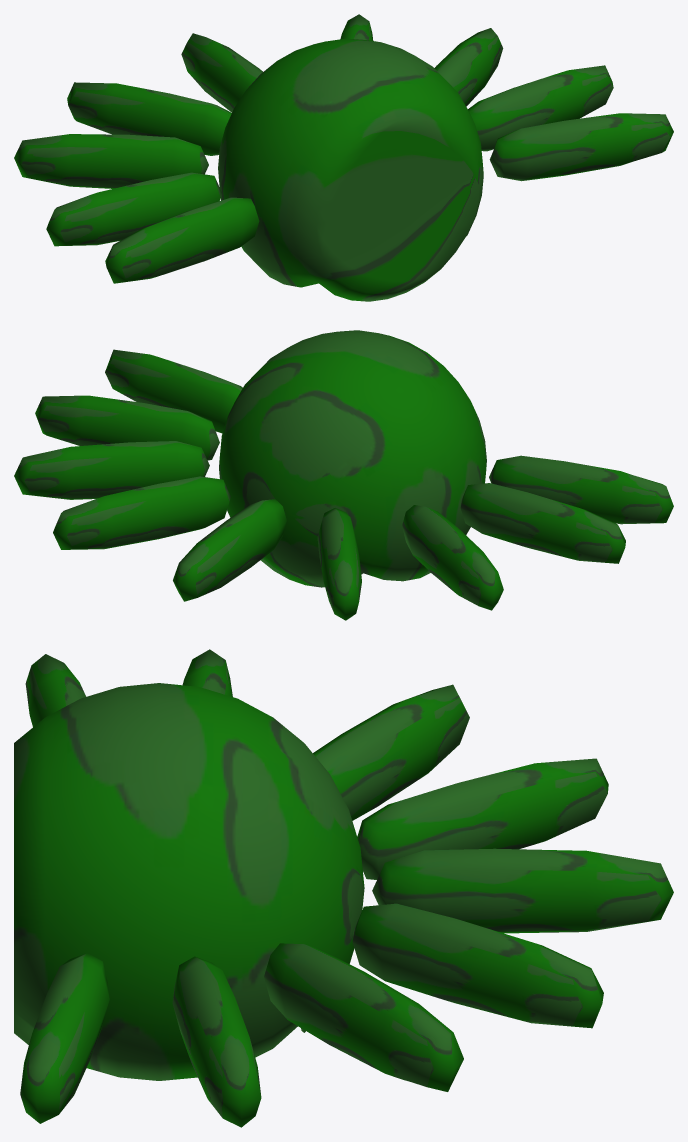
Rendered from item-sun-hat.glb.
3 renders of one model, top to bottom at view 1: azimuth 30°, elevation 25°; view 2: azimuth 150°, elevation 25°; view 3: azimuth 270°, elevation 25°, orthographic. The views are drawn at different scales.
Size of the model in its own units: 4.99 by 1.83 by 3.21.
Materials: 1 (1 with a texture image).
